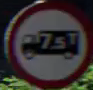Heavy Vehicles: (10, 7, 84, 72)
